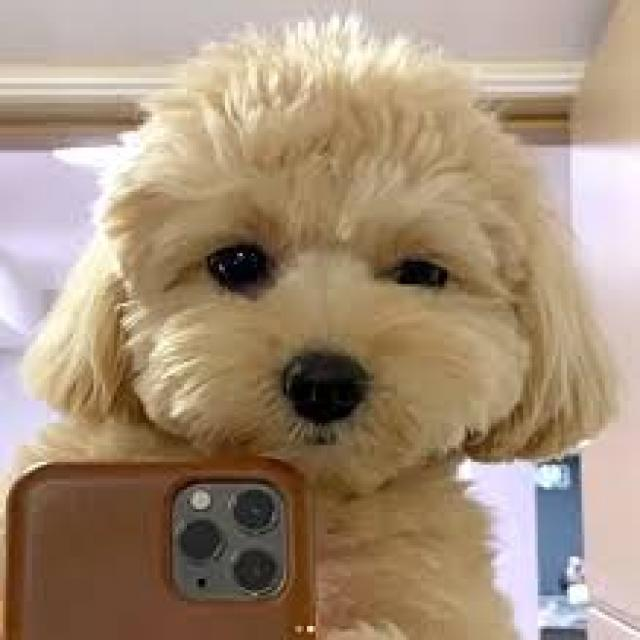Phone: (0, 456, 316, 640)
